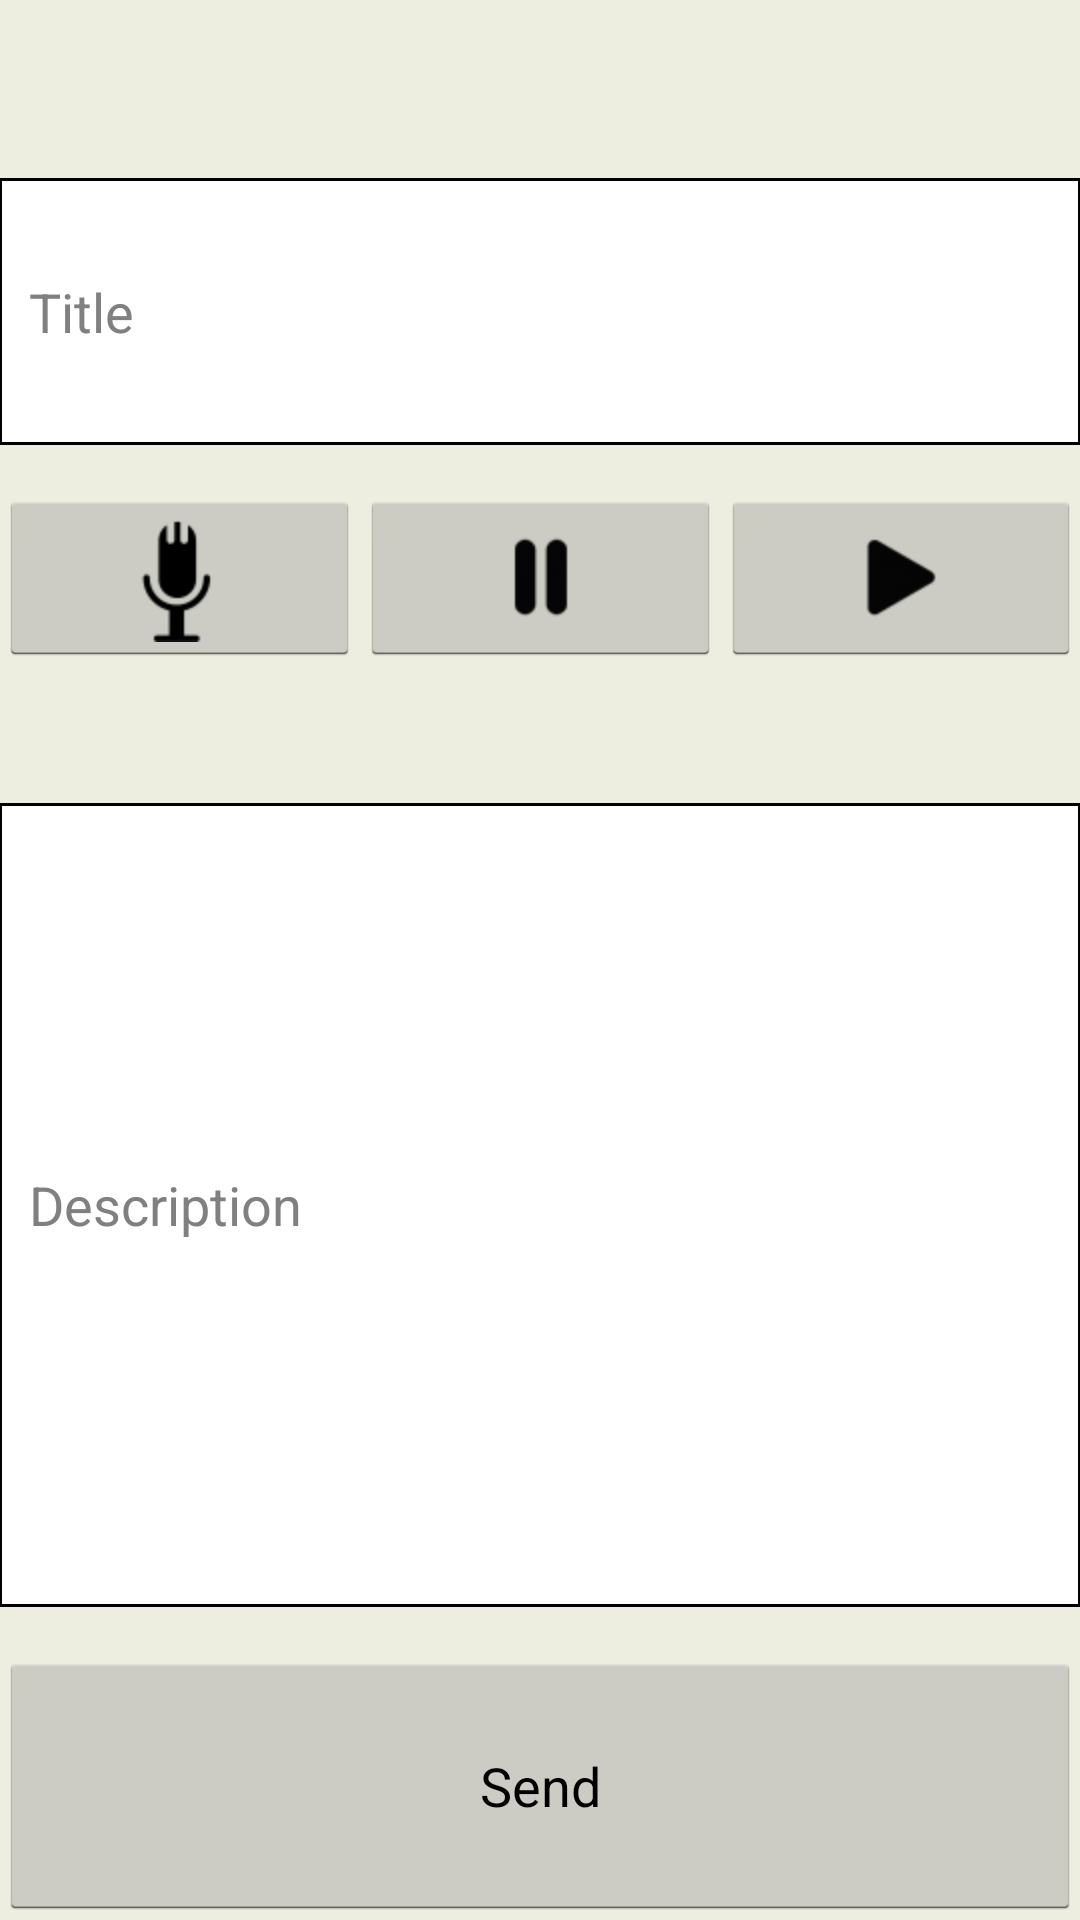

Point at icon controls on the screen. Image size 1080x1920, points as point (x, y).
Play: point (901, 579)
Record: point (179, 579)
